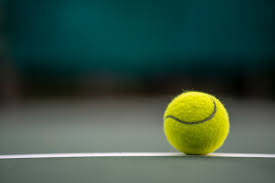tennis_ball: (163, 90, 230, 156)
